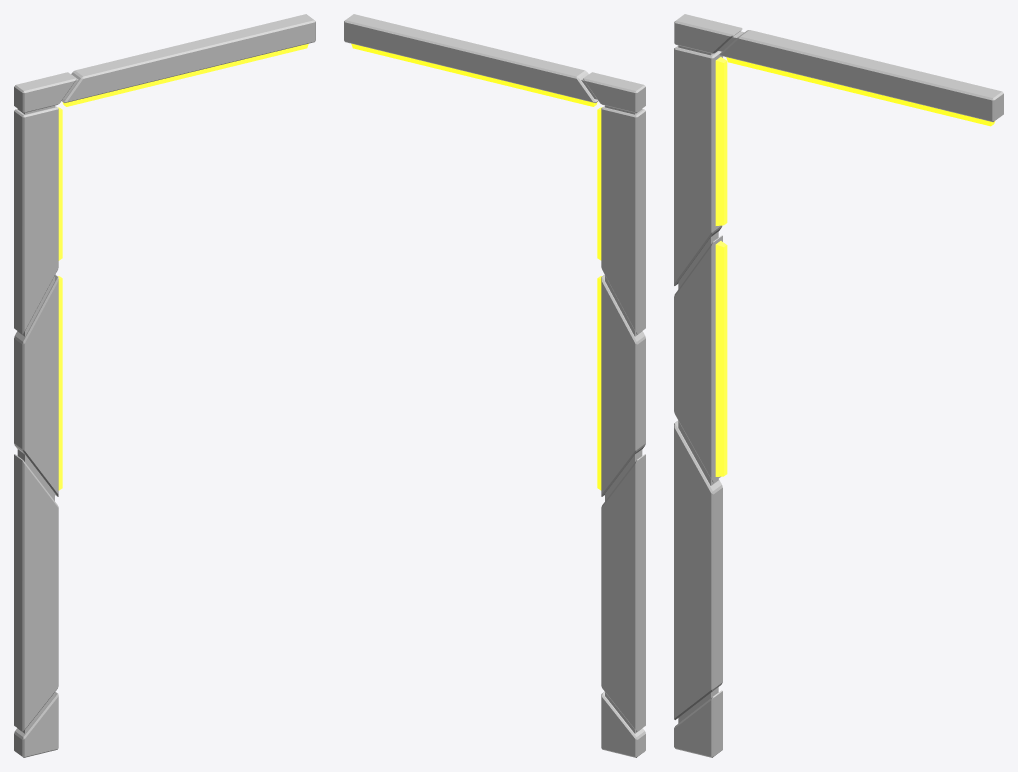
The model's file is street-light.glb.
3 renders of one model, left to right at view 1: azimuth 30°, elevation 25°; view 2: azimuth 150°, elevation 25°; view 3: azimuth 330°, elevation 25°, orthographic. The views are drawn at different scales.
Parts seen in each view (by area): view 1: Street_lights_191_24___Default8_0_63, Street_lights_191_light1_0_64; view 2: Street_lights_191_24___Default8_0_63, Street_lights_191_light1_0_64; view 3: Street_lights_191_24___Default8_0_63, Street_lights_191_light1_0_64.
Boxes of the visible parts, x1,y1,x2,y2 form: Street_lights_191_24___Default8_0_63: (14, 14, 315, 757); Street_lights_191_light1_0_64: (58, 43, 308, 490); Street_lights_191_24___Default8_0_63: (344, 14, 645, 757); Street_lights_191_light1_0_64: (351, 43, 602, 490); Street_lights_191_24___Default8_0_63: (674, 14, 1003, 757); Street_lights_191_light1_0_64: (715, 57, 994, 476).
Bounding box in the file's own units: 1.38 × 3 × 0.0814.
